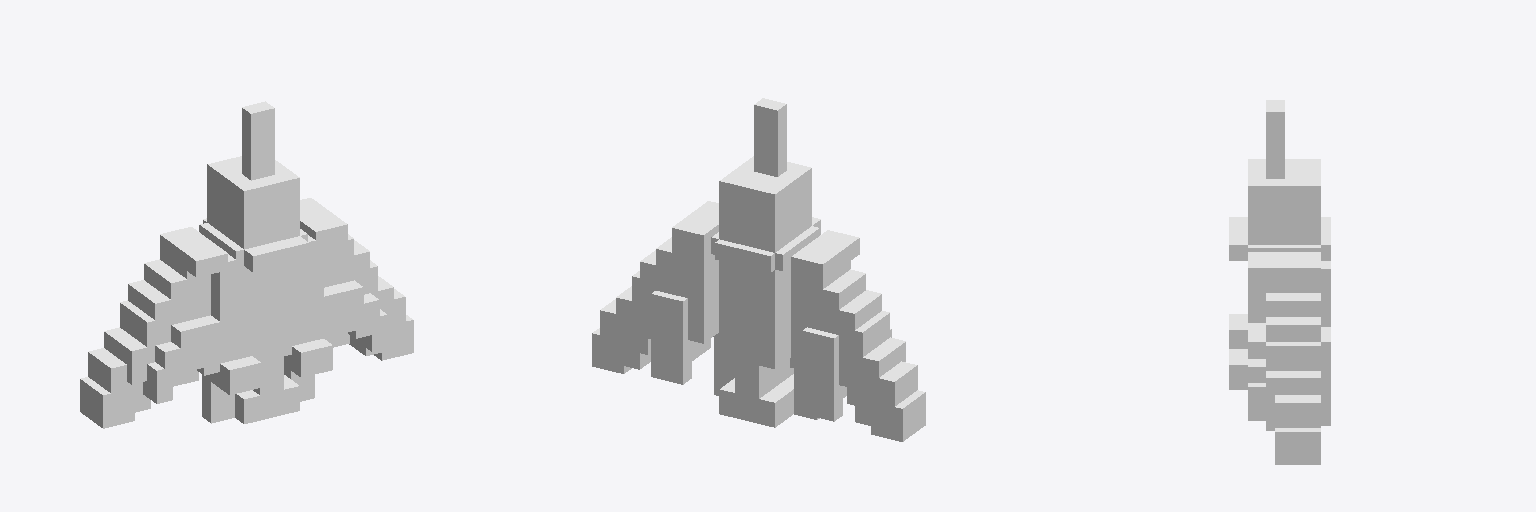
File: own_03_01.obj
3 views of the same model, side by side, from view 1: azimuth 30°, elevation 25°; view 2: azimuth 150°, elevation 25°; view 3: azimuth 270°, elevation 25° (orthographic).
Bounding box in the file's own units: 39 × 36 × 11.